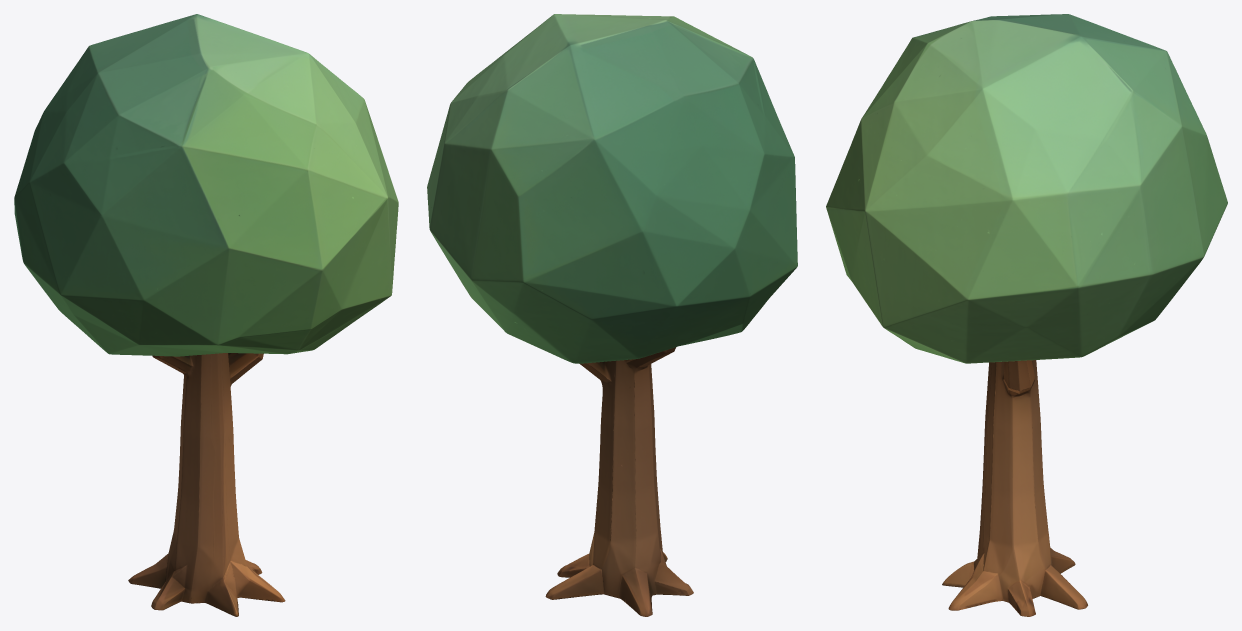
File: tree.glb
3 renders of one model, left to right at view 1: azimuth 30°, elevation 25°; view 2: azimuth 150°, elevation 25°; view 3: azimuth 270°, elevation 25°, orthographic. The views are drawn at different scales.
Visible parts, largest first — view 1: node_0; view 2: node_0; view 3: node_0.
Boxes of the visible parts, bbox=[...] form: node_0: bbox=[14, 14, 398, 616]; node_0: bbox=[427, 14, 797, 616]; node_0: bbox=[826, 14, 1227, 616].
Size of the model in its own units: 0.7215 by 1.16 by 0.7485.
Materials: 1 (1 with a texture image).
